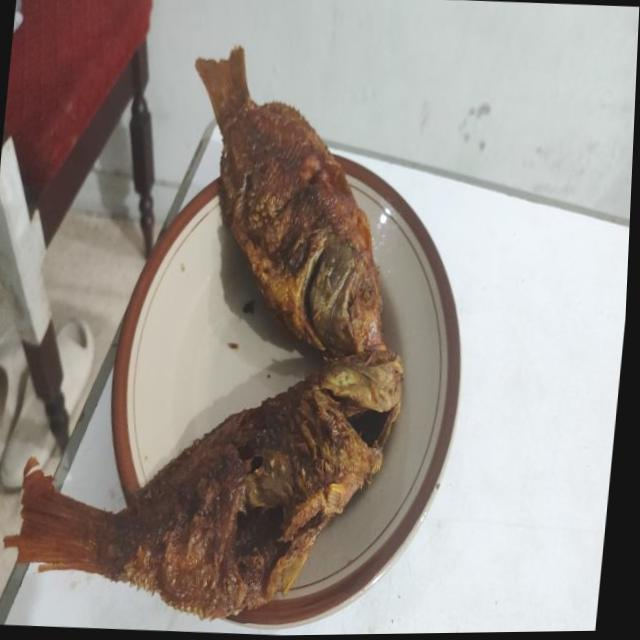ikan_mujair: (5, 350, 402, 620), (196, 47, 386, 355)
